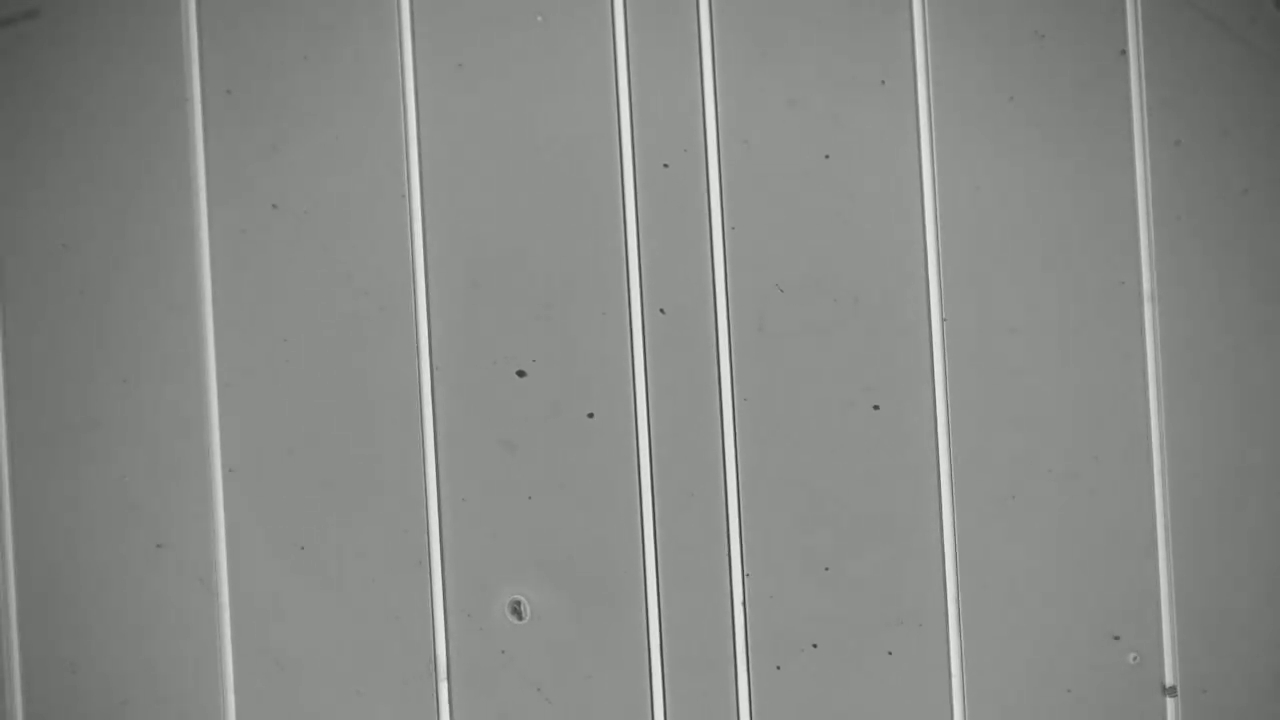stains_enbedded: (1145, 671, 1193, 709)
